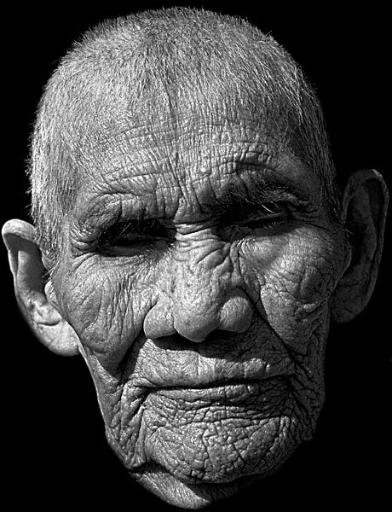left_eye: (235, 205, 297, 232)
left_lip_corner: (251, 364, 289, 393)
right_eye: (89, 224, 171, 257)
right_lip_corner: (141, 376, 176, 400)
